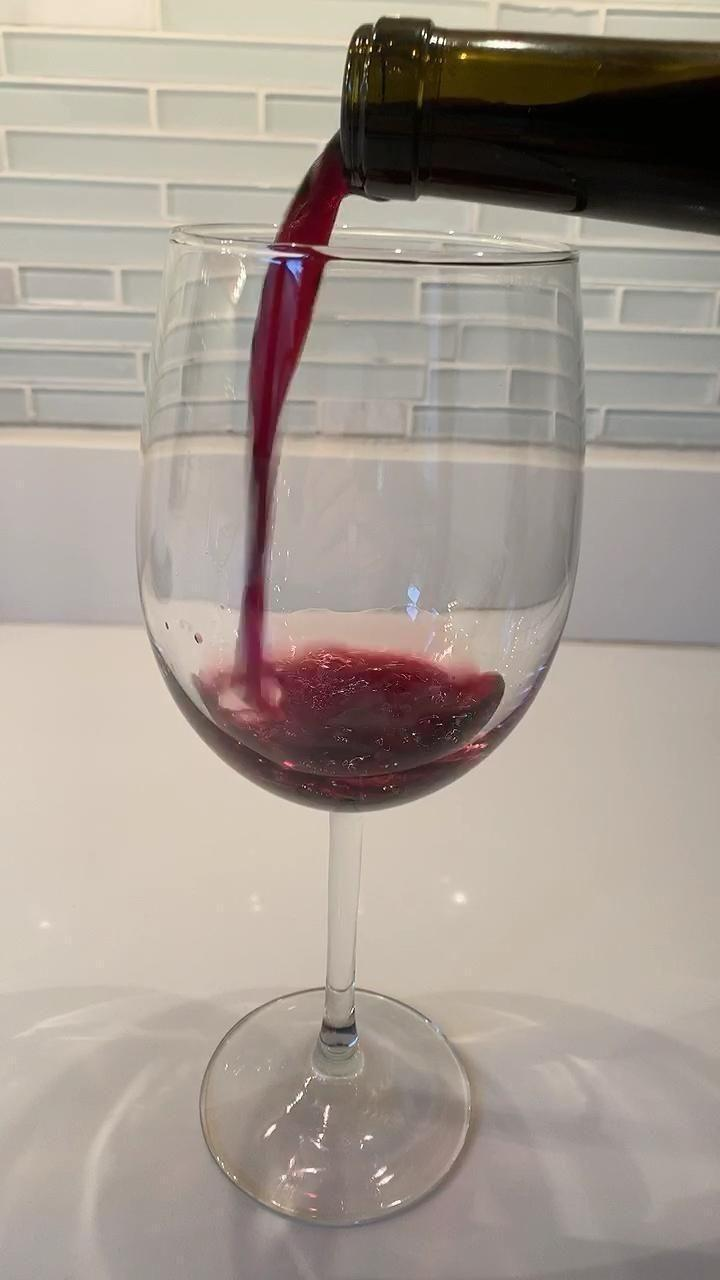bottle-glass: (336, 1, 720, 261)
glass-wine: (130, 216, 593, 1225)
